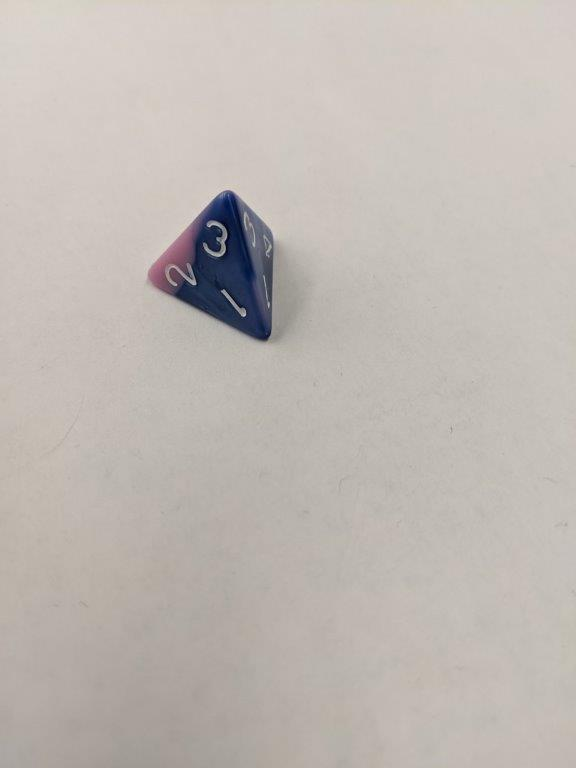d4-3: (144, 186, 281, 347)
